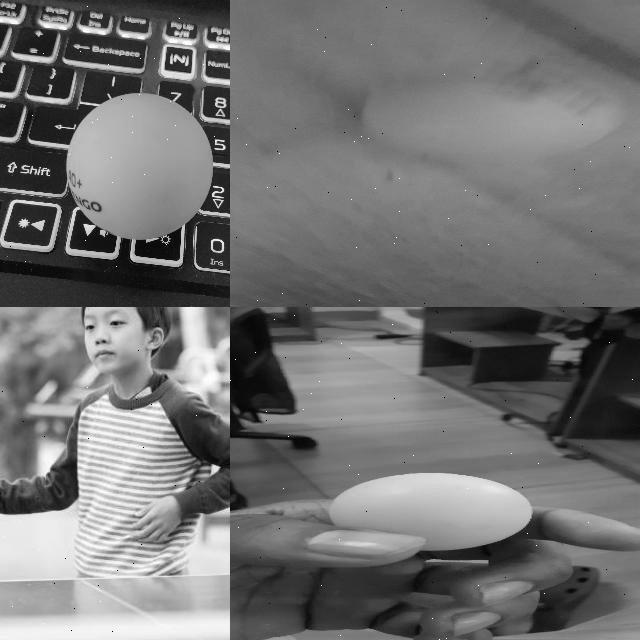ping-pong-ball: (362, 64, 618, 162), (65, 93, 215, 241), (329, 471, 534, 550)
